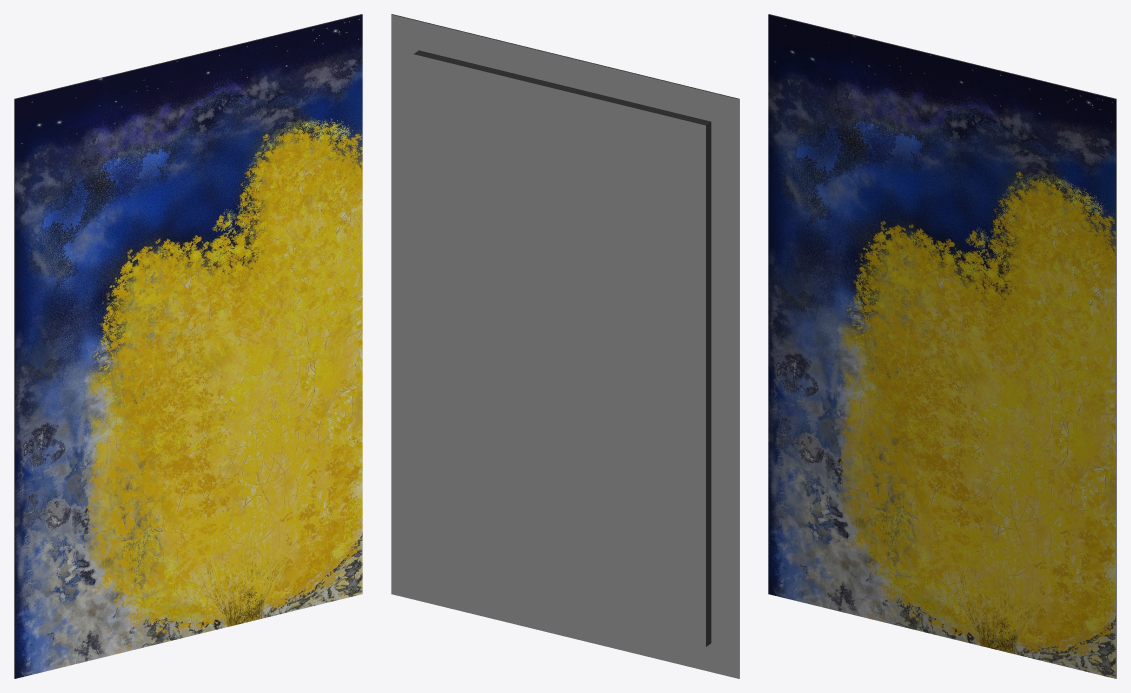
The model's file is os016_grand_dibond.glb.
The picture shows the model from 3 angles, left to right: view 1: azimuth 30°, elevation 25°; view 2: azimuth 150°, elevation 25°; view 3: azimuth 330°, elevation 25°; orthographic projection.
Visible parts, largest first — view 1: os016_grand_dibond; view 2: os016_grand_dibond; view 3: os016_grand_dibond.
Boxes of the visible parts, x1=… form: os016_grand_dibond: x1=14, y1=14, x2=362, y2=678; os016_grand_dibond: x1=391, y1=14, x2=739, y2=678; os016_grand_dibond: x1=768, y1=14, x2=1116, y2=678.
Size of the model in its own units: 0.7537 by 1.2 by 0.023.
4 materials, 1 textured.
